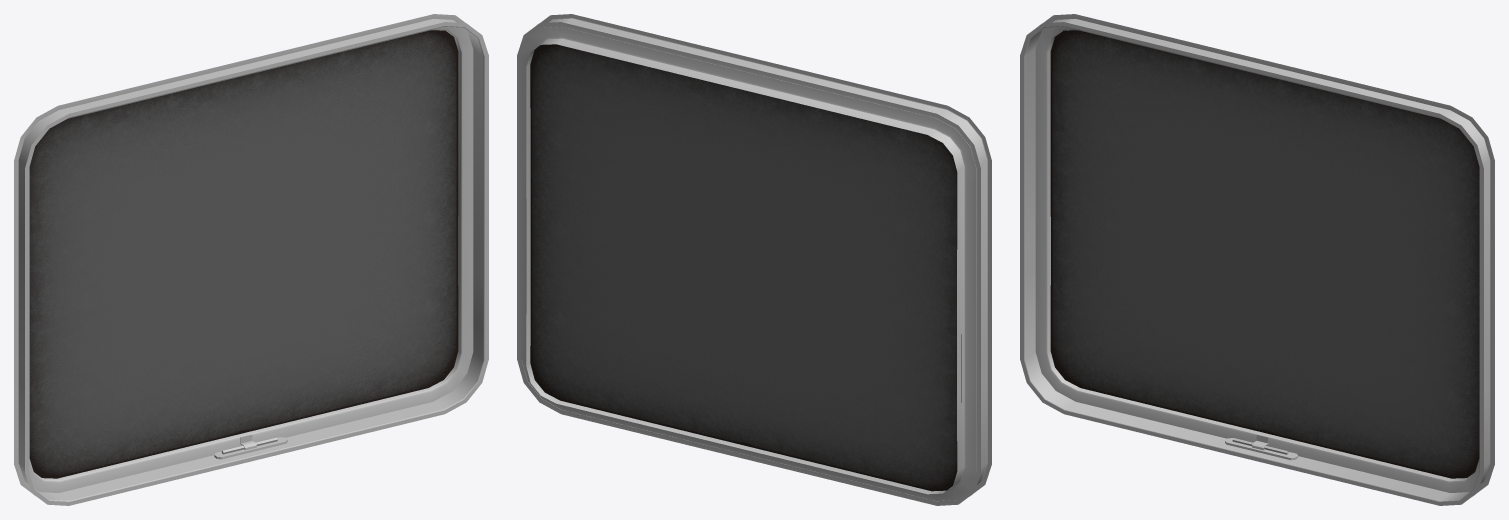
The model's file is SM_Window.fbx.
The picture shows the model from 3 angles, left to right: view 1: azimuth 30°, elevation 25°; view 2: azimuth 150°, elevation 25°; view 3: azimuth 330°, elevation 25°; orthographic projection.
Visible parts, largest first — view 1: SM_Window; view 2: SM_Window; view 3: SM_Window.
Boxes of the visible parts, x1,y1,x2,y2 form: SM_Window: (14,14,488,505); SM_Window: (517,14,991,505); SM_Window: (1020,14,1494,505).
Bounding box in the file's own units: 1.12 × 0.0762 × 0.9075.
